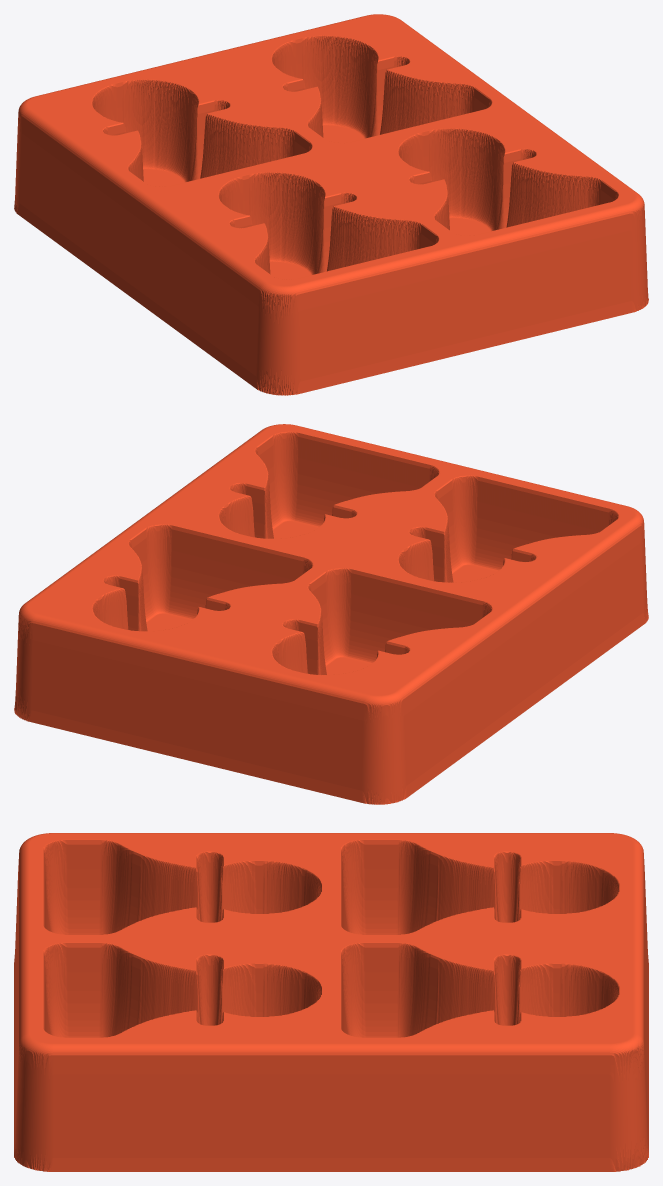
File: mold.glb
The picture shows the model from 3 angles, top to bottom: view 1: azimuth 30°, elevation 25°; view 2: azimuth 150°, elevation 25°; view 3: azimuth 270°, elevation 25°; orthographic projection. The views are drawn at different scales.
Parts seen in each view (by area): view 1: geometry_0; view 2: geometry_0; view 3: geometry_0.
Part boxes in pixels (box(x1,y1,x2,y2)): geometry_0: box(14, 14, 648, 395); geometry_0: box(14, 424, 648, 804); geometry_0: box(14, 833, 648, 1171).
Size of the model in its own units: 0.1218 by 0.031 by 0.1466.
